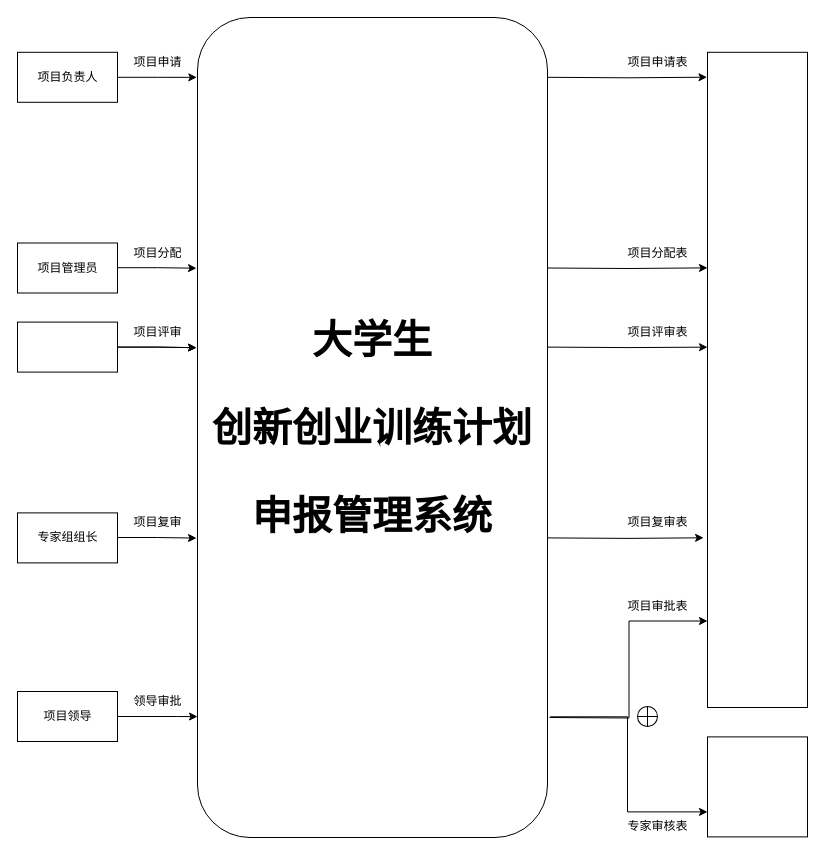
Some shapes in this 825 by 855 pixel diagram are drawn without their labels. The shapes that lost their labels are listed below. From the top down, each one's centre as x and y in pixels, then its label:
At point (67, 346): "专家组成员".
At point (757, 379): "项 目".
At point (757, 786): "专 家".
